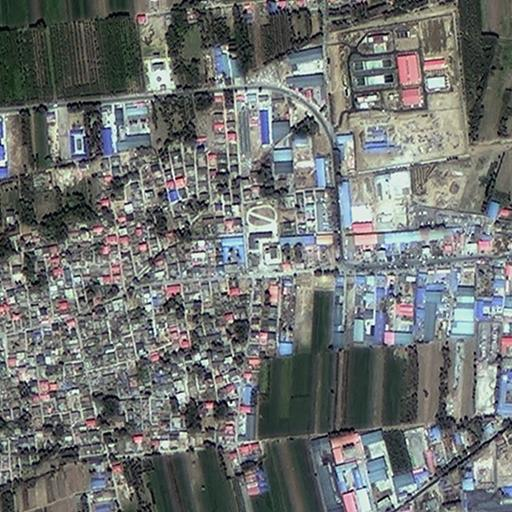school: (246, 202, 279, 272)
